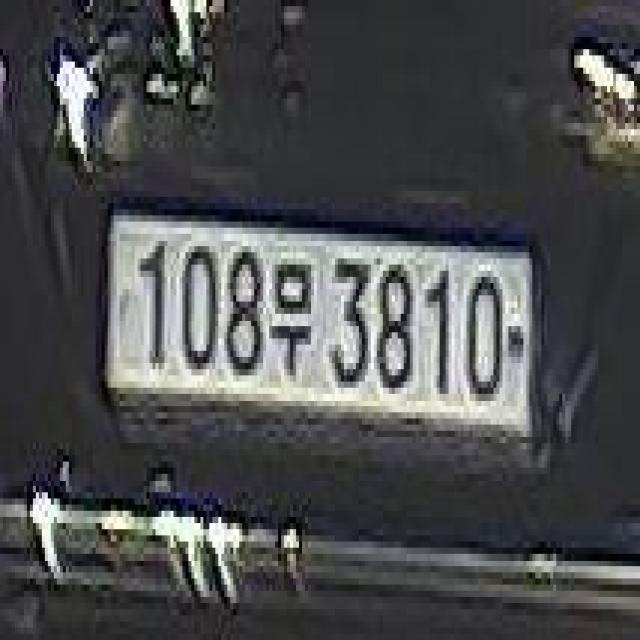illegal_plate: (104, 195, 540, 461)
